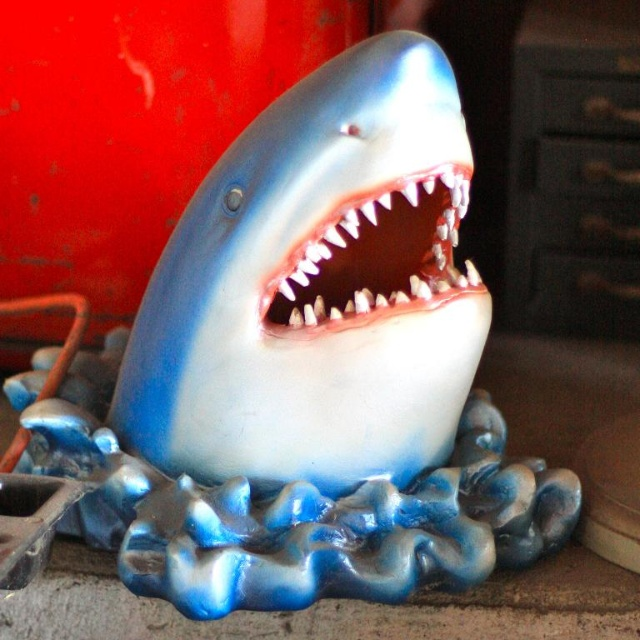Shark: (108, 28, 494, 497)
